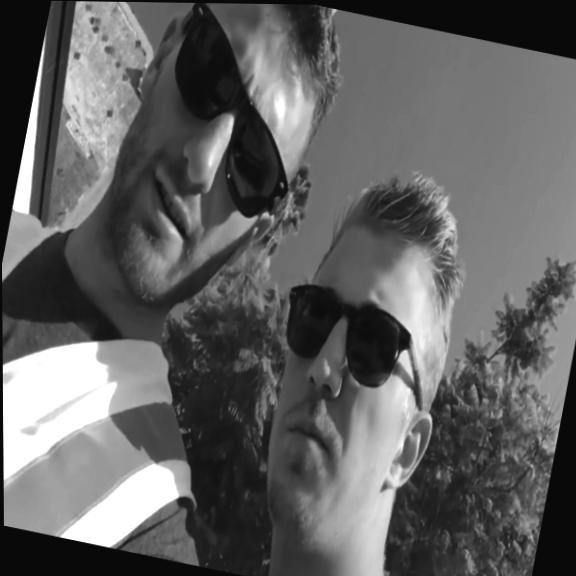safety_vest: (2, 205, 246, 564)
